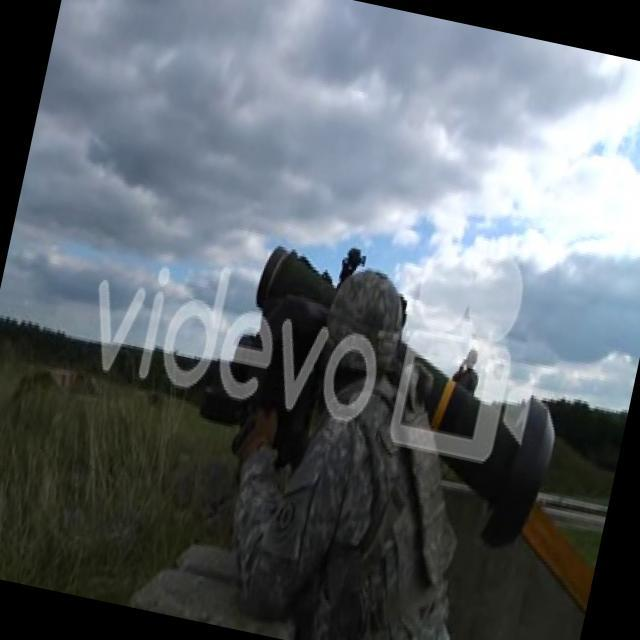rocket: (366, 351, 570, 561)
